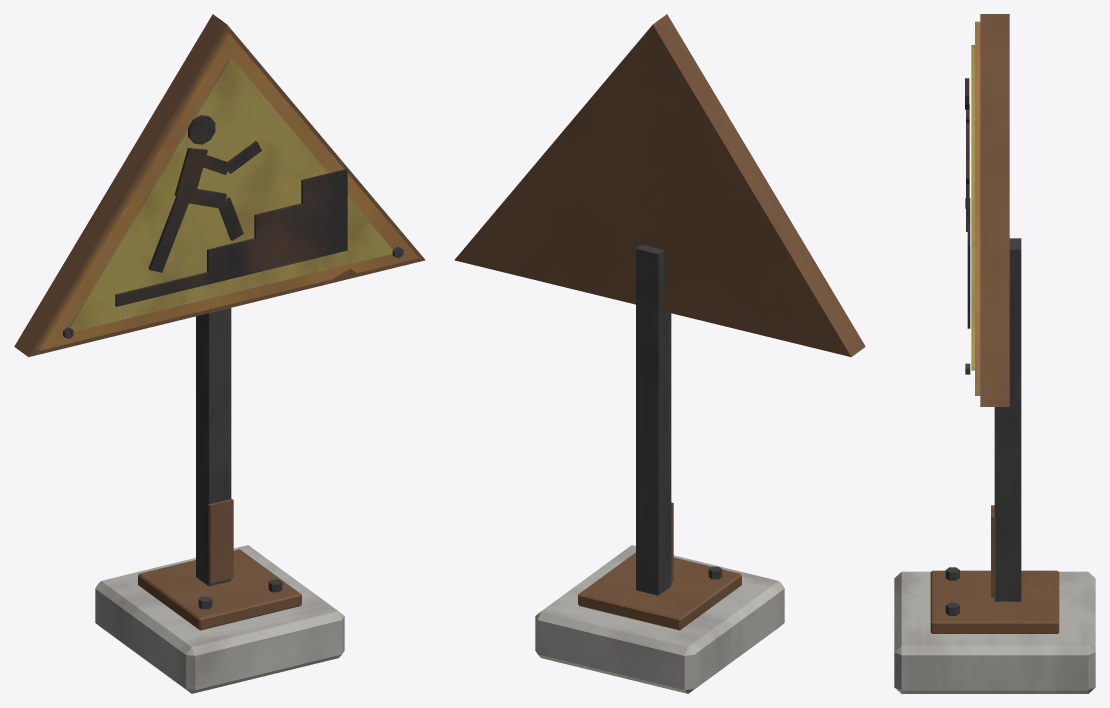
The model's file is RE02_platform_signs_symbols_v3.glb.
3 views of the same model, side by side, from view 1: azimuth 30°, elevation 25°; view 2: azimuth 150°, elevation 25°; view 3: azimuth 270°, elevation 25° (orthographic). The views are drawn at different scales.
Parts seen in each view (by area): view 1: Chipped concrete footing; view 2: Chipped concrete footing; view 3: Chipped concrete footing.
Boxes of the visible parts, x1,y1,x2,y2 form: Chipped concrete footing: (14,14,425,693); Chipped concrete footing: (454,14,865,693); Chipped concrete footing: (894,14,1095,693).
Size of the model in its own units: 0.8 by 1.2 by 0.34.
Materials: 6 (6 with a texture image).
